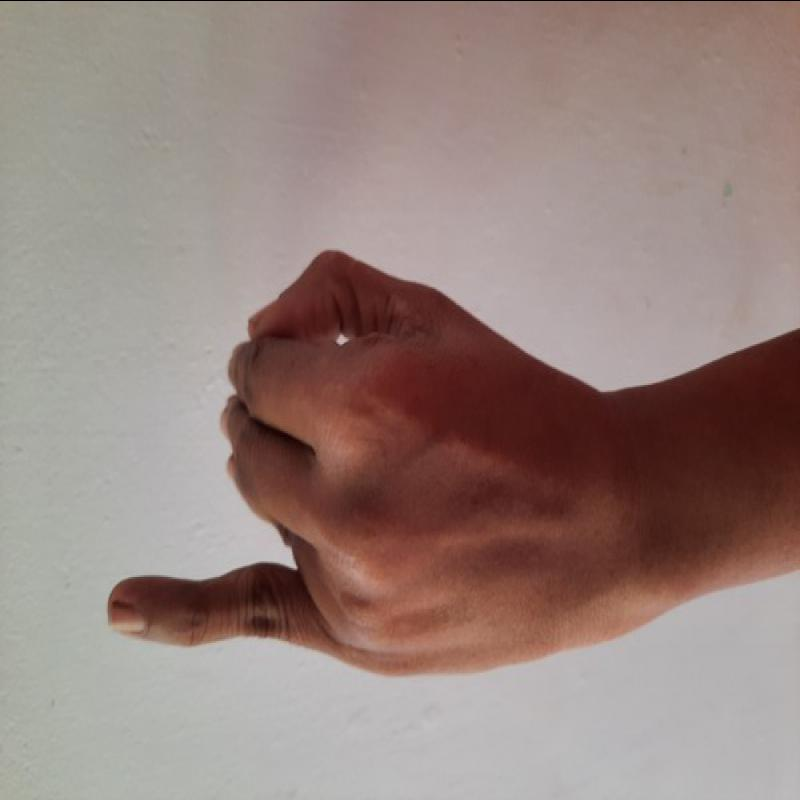Kartharee Mukham: (104, 234, 585, 695)
